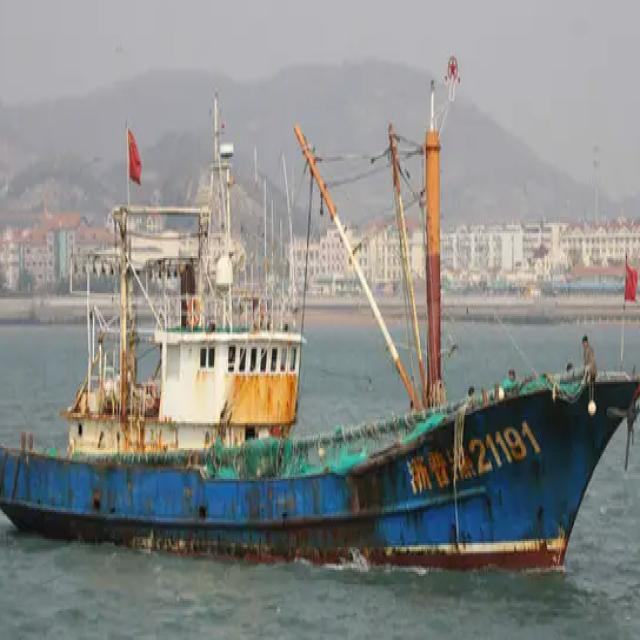fishing boat: (0, 95, 640, 578)
